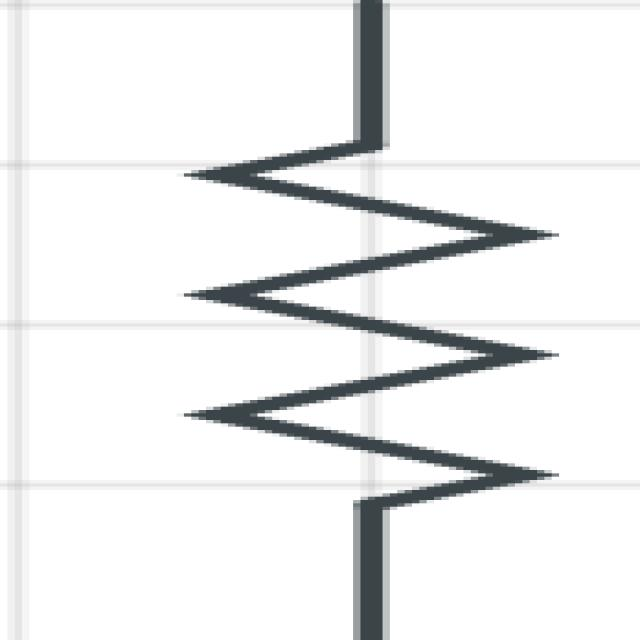res: (84, 5, 620, 638)
